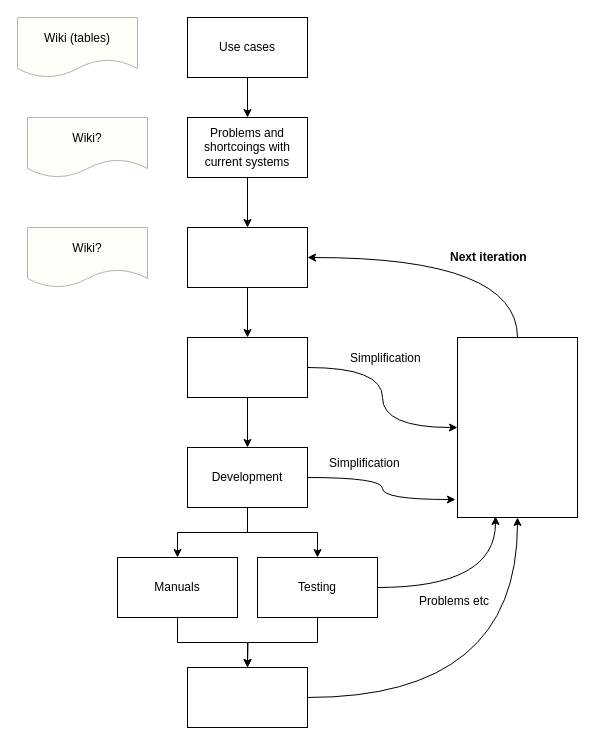
This 595x745 diagram has some shape labels left out. The shapes that lost their labels are listed below. From the top down, each one's centre as x and y in pixels, then its label:
the point at 247,257: Solutions
the point at 247,367: Designs & specs
the point at 517,427: Improvements
the point at 247,697: Production
